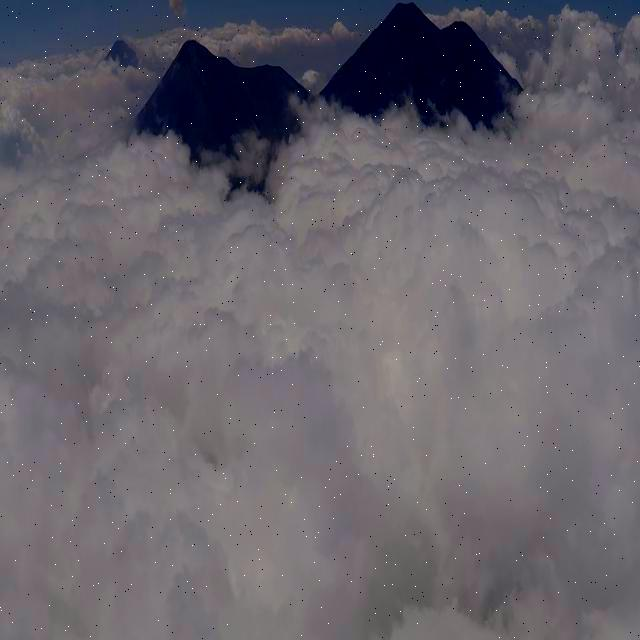Plume: (165, 0, 190, 20)
Summit: (162, 35, 240, 83)
